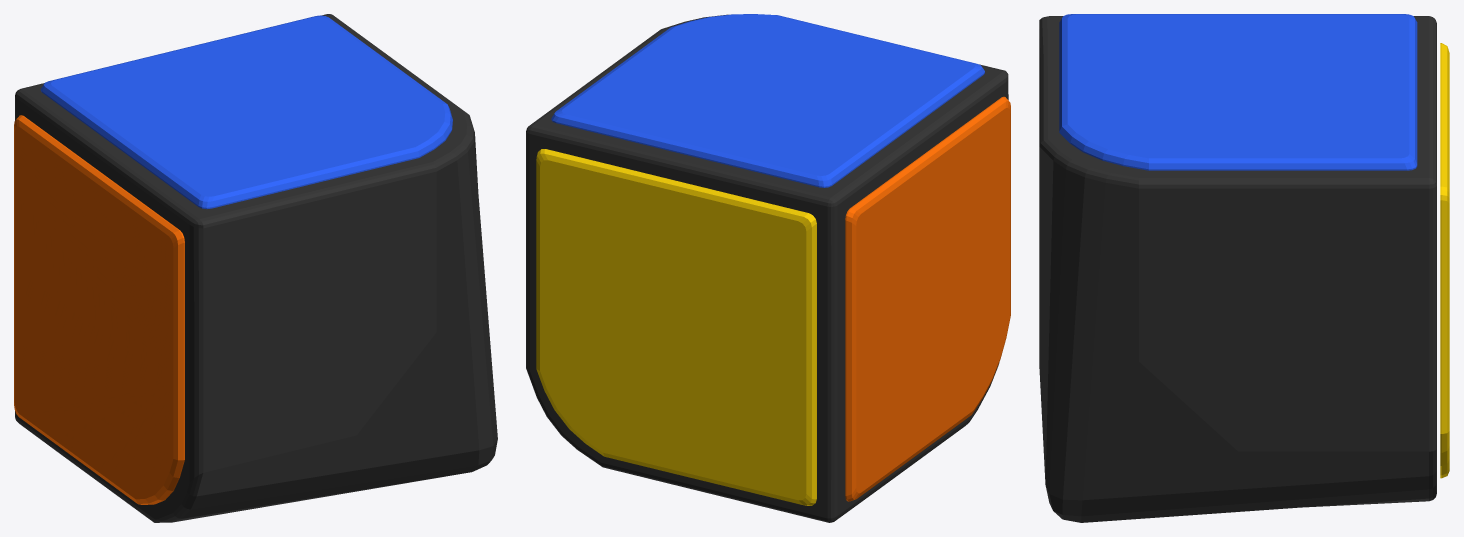
3 views of the same model, side by side, from view 1: azimuth 30°, elevation 25°; view 2: azimuth 150°, elevation 25°; view 3: azimuth 270°, elevation 25° (orthographic). The views are drawn at different scales.
Visible parts, largest first — view 1: Cube.020, Cube.053, Cube.067; view 2: Cube.083, Cube.053, Cube.067, Cube.020; view 3: Cube.020, Cube.067, Cube.083.
Boxes of the visible parts, left/top/right/bottom form: Cube.020: left=15, top=14, right=497, bottom=522; Cube.053: left=14, top=115, right=184, bottom=504; Cube.067: left=40, top=15, right=452, bottom=209; Cube.083: left=536, top=149, right=816, bottom=505; Cube.053: left=845, top=96, right=1010, bottom=501; Cube.067: left=551, top=14, right=984, bottom=187; Cube.020: left=526, top=14, right=1008, bottom=522; Cube.020: left=1039, top=16, right=1436, bottom=522; Cube.067: left=1059, top=14, right=1417, bottom=170; Cube.083: left=1440, top=43, right=1449, bottom=478.
Bounding box in the file's own units: 206 × 206 × 207.
